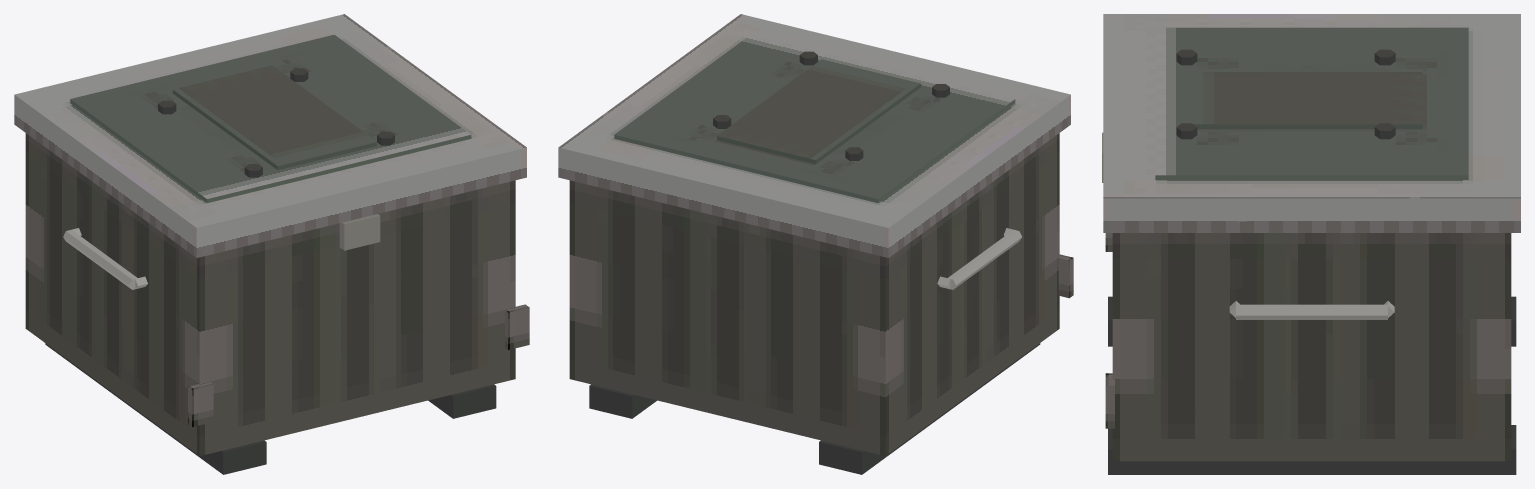
File: Building_AncientCrate.glb
3 renders of one model, left to right at view 1: azimuth 30°, elevation 25°; view 2: azimuth 150°, elevation 25°; view 3: azimuth 270°, elevation 25°, orthographic. The views are drawn at different scales.
Parts seen in each view (by area): view 1: AncientCrate; view 2: AncientCrate; view 3: AncientCrate.
Boxes of the visible parts, x1,y1,x2,y2 form: AncientCrate: (14, 14, 529, 474); AncientCrate: (558, 14, 1073, 474); AncientCrate: (1102, 14, 1520, 474).
Bounding box in the file's own units: 0.972 × 0.71 × 0.8825.
1 material, 1 textured.
